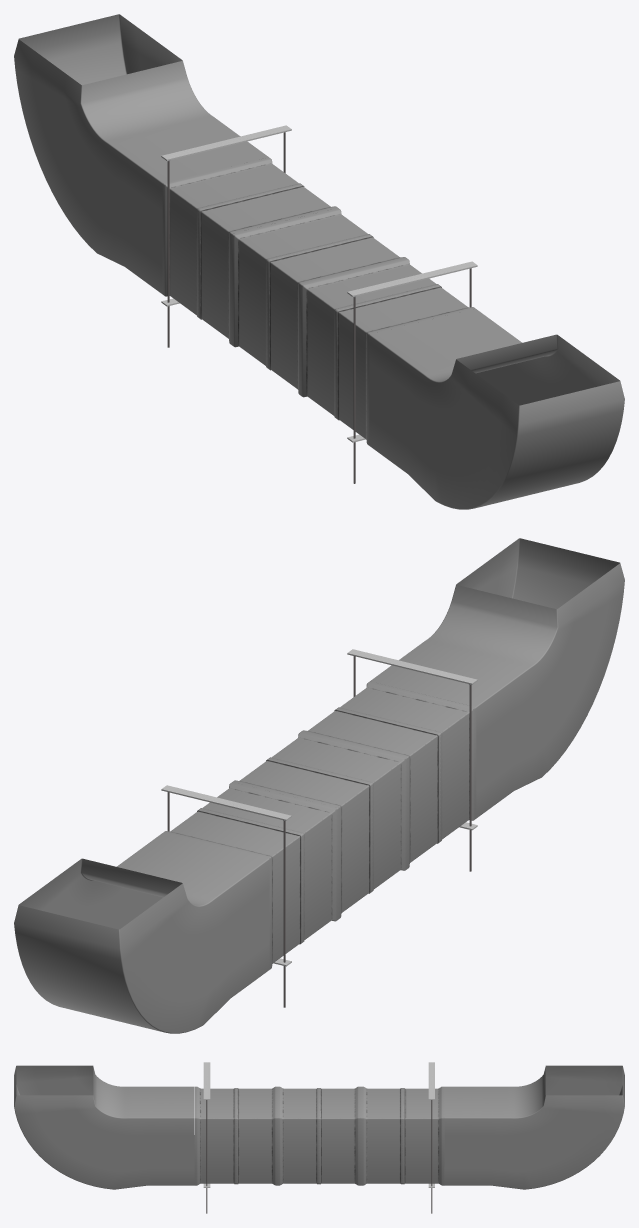
3 renders of one model, top to bottom at view 1: azimuth 30°, elevation 25°; view 2: azimuth 150°, elevation 25°; view 3: azimuth 270°, elevation 25°, orthographic. The views are drawn at different scales.
Parts seen in each view (by area): view 1: Vent_Bend_2, Vent_Bend, Straight_vent_Piece.001, Straight_vent_Piece.002, Straight_vent_Piece, Cube.006, Cube.003; view 2: Vent_Bend, Vent_Bend_2, Straight_vent_Piece.001, Straight_vent_Piece, Straight_vent_Piece.002, Cube.003, Cube.006; view 3: Vent_Bend_2, Vent_Bend, Straight_vent_Piece.001, Straight_vent_Piece, Straight_vent_Piece.002, Cube.003, Cube.006.
Part boxes in pixels (x1,y1,x2,y2): Vent_Bend_2: (369, 308, 624, 509); Vent_Bend: (14, 14, 268, 294); Straight_vent_Piece.001: (231, 208, 406, 395); Straight_vent_Piece.002: (162, 157, 337, 344); Straight_vent_Piece: (300, 258, 476, 445); Cube.006: (161, 125, 291, 347); Cube.003: (347, 261, 477, 483); Vent_Bend: (14, 832, 269, 1033); Vent_Bend_2: (370, 538, 624, 818); Straight_vent_Piece.001: (233, 731, 407, 918); Straight_vent_Piece: (301, 681, 476, 868); Straight_vent_Piece.002: (162, 782, 338, 969); Cube.003: (347, 649, 477, 871); Cube.006: (161, 785, 291, 1007); Vent_Bend_2: (14, 1065, 194, 1189); Vent_Bend: (444, 1065, 624, 1189); Straight_vent_Piece.001: (277, 1086, 360, 1185); Straight_vent_Piece: (194, 1086, 278, 1185); Straight_vent_Piece.002: (361, 1086, 444, 1185); Cube.003: (203, 1062, 210, 1213); Cube.006: (428, 1062, 434, 1213).
Size of the model in its own units: 1.27 by 1.85 by 8.86.
Materials: 3 (3 with a texture image).
